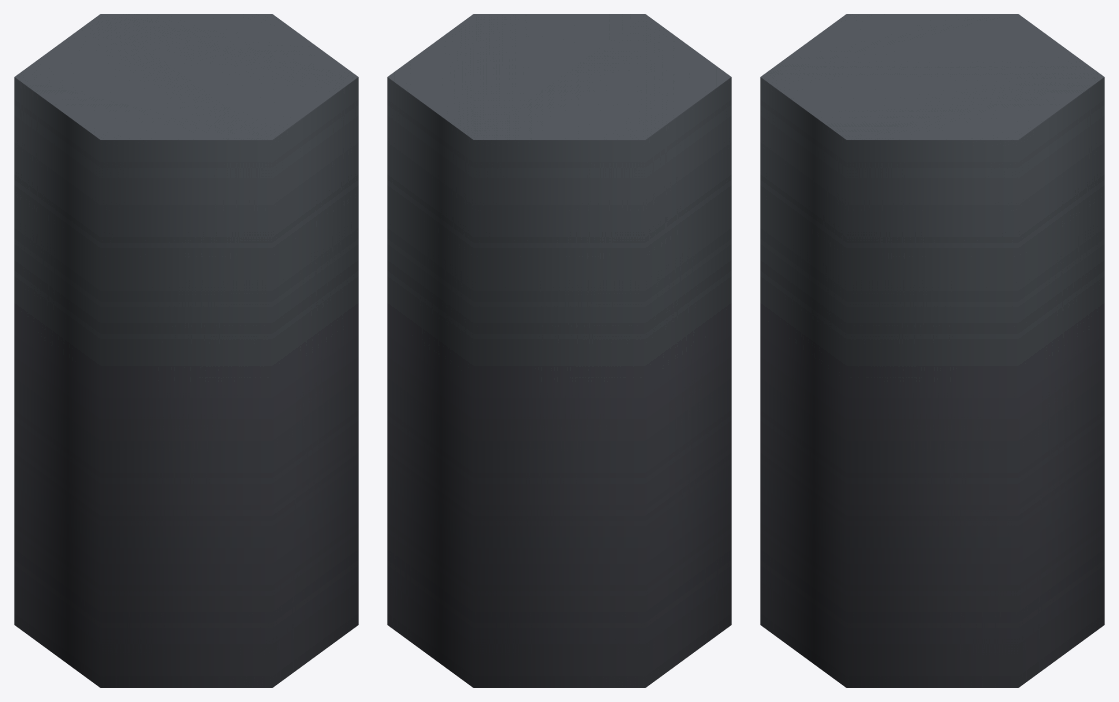
File: s_pipe.glb
The picture shows the model from 3 angles, left to right: view 1: azimuth 30°, elevation 25°; view 2: azimuth 150°, elevation 25°; view 3: azimuth 270°, elevation 25°; orthographic projection.
Parts seen in each view (by area): view 1: pipe; view 2: pipe; view 3: pipe.
Boxes of the visible parts, box(x1,y1,x2,y2) form: pipe: box(14, 14, 358, 687); pipe: box(387, 14, 731, 687); pipe: box(760, 14, 1104, 687).
Size of the model in its own units: 0.2464 by 0.5 by 0.2845.
Materials: 1 (1 with a texture image).
